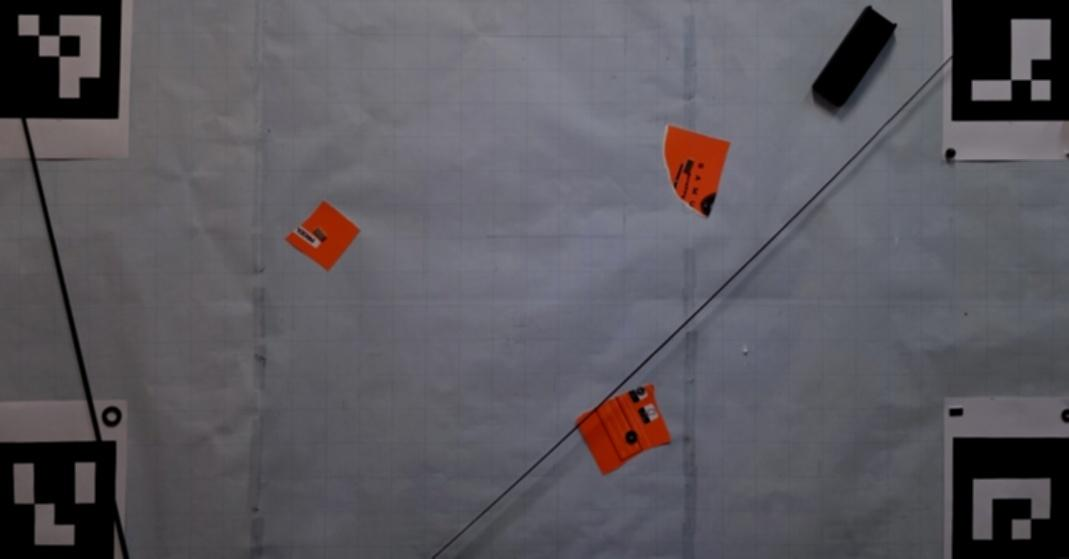obstacle: (812, 5, 900, 110), (575, 382, 673, 475), (661, 125, 730, 219), (284, 199, 361, 272)
